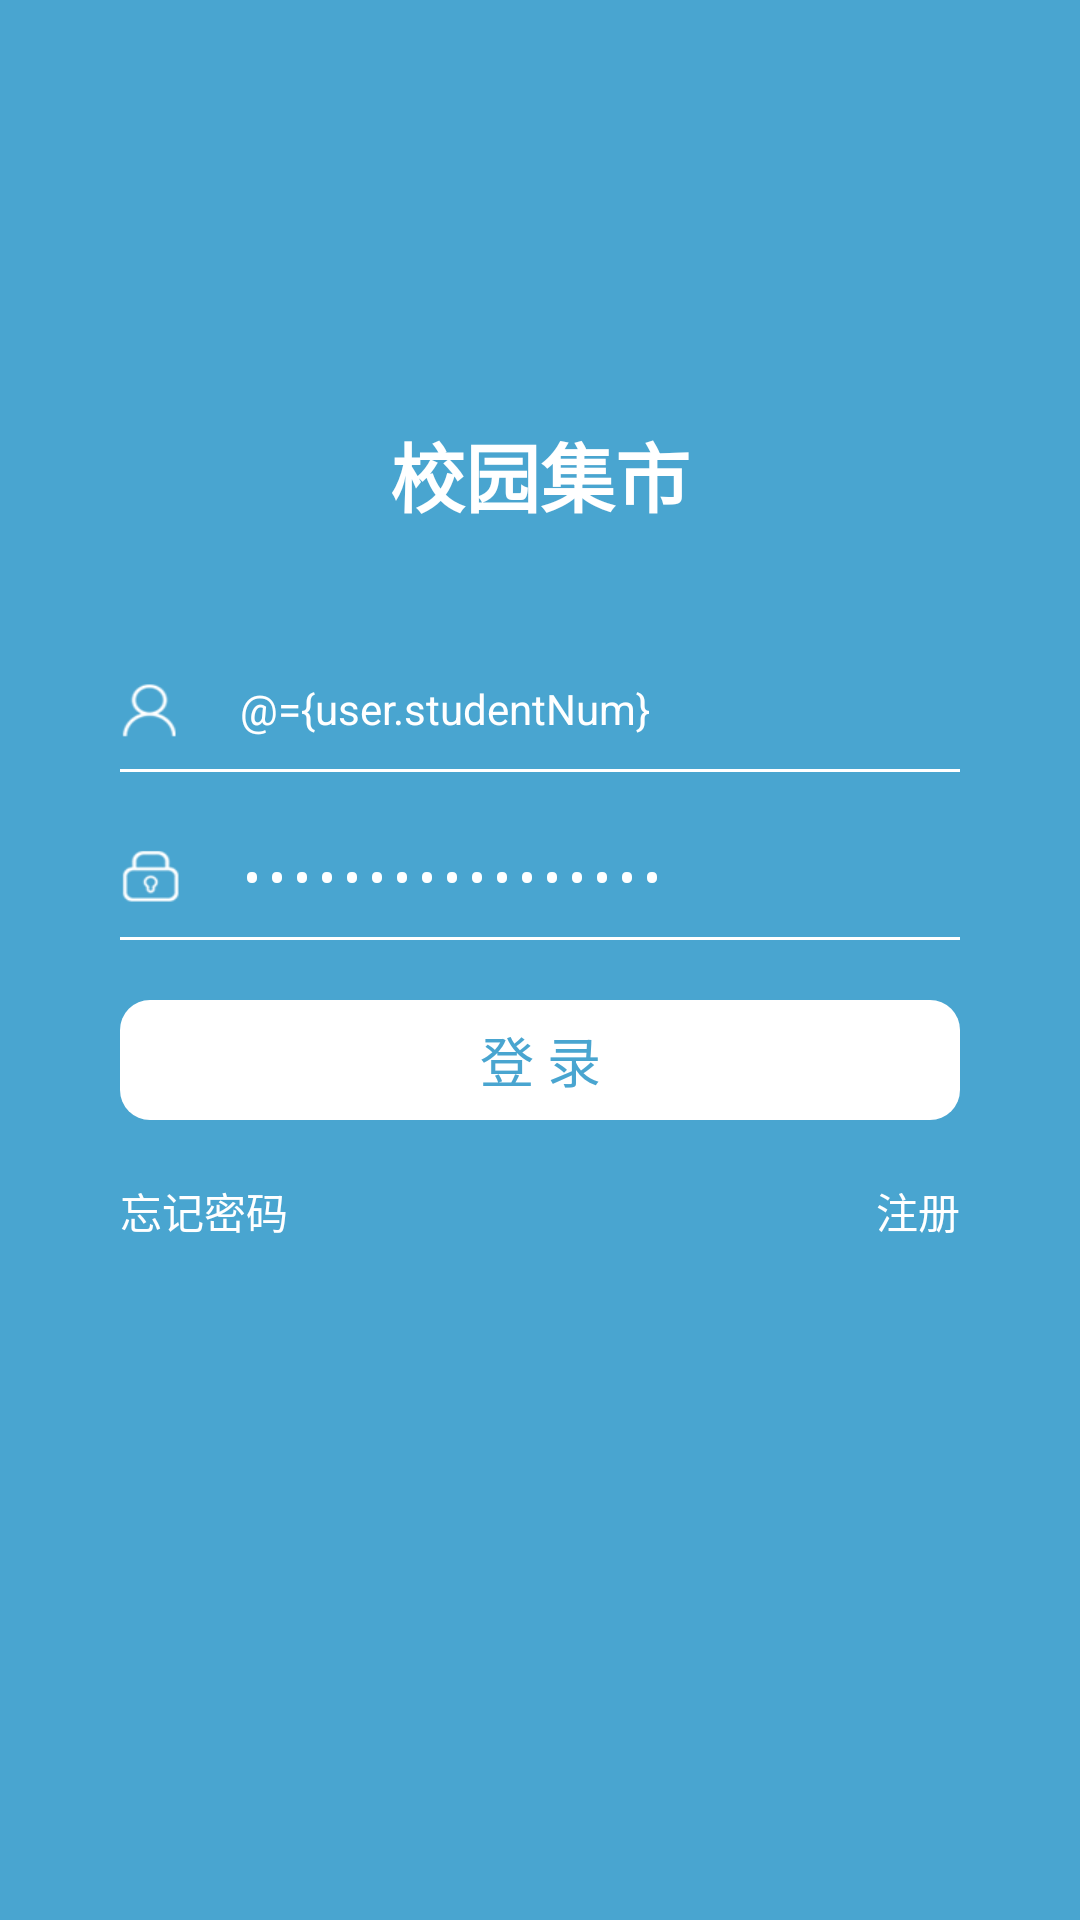

Named icons in this screenshot (1080*1920) and their bounding boxes, (x1, y1, x2, y2):
username: (123, 684, 176, 737)
